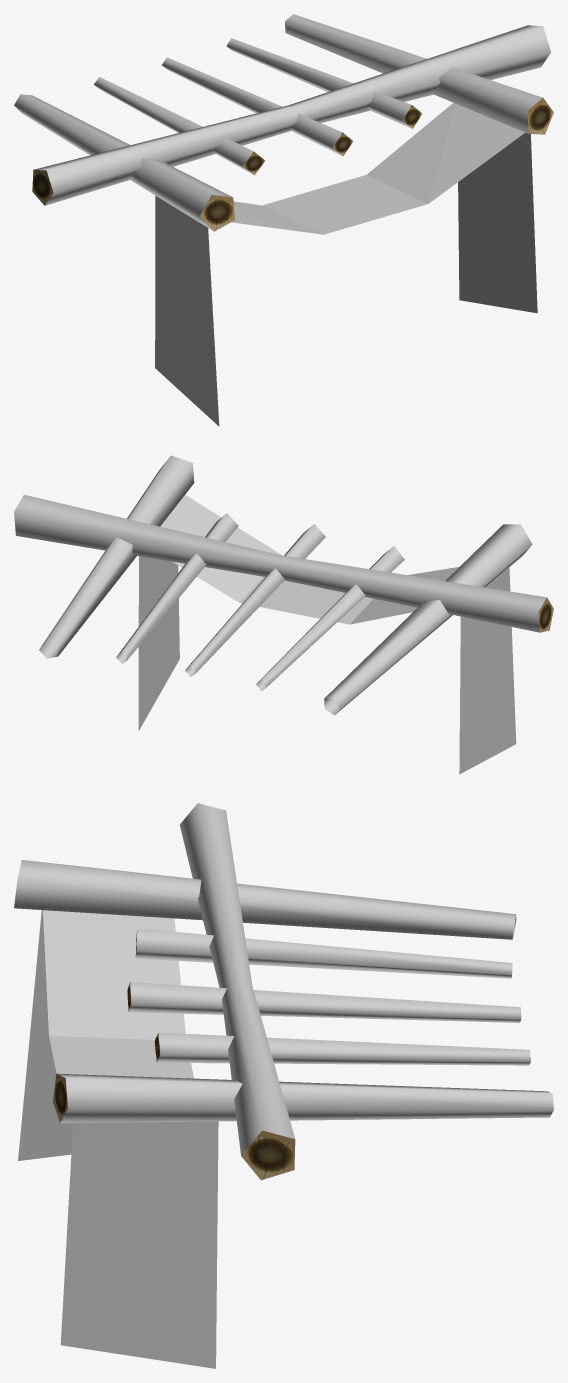
The model's file is environment_common_zhuzijia_001_a.FBX.
3 renders of one model, top to bottom at view 1: azimuth 30°, elevation 25°; view 2: azimuth 150°, elevation 25°; view 3: azimuth 270°, elevation 25°, orthographic. The views are drawn at different scales.
Parts seen in each view (by area): view 1: environment_common_zhuzijia_001_c, environment_common_zhuzijia_001_a, environment_common_zhuzijia_001_b; view 2: environment_common_zhuzijia_001_a, environment_common_zhuzijia_001_c; view 3: environment_common_zhuzijia_001_a, environment_common_zhuzijia_001_c, environment_common_zhuzijia_001_b.
Part boxes in pixels (bbox=[...]): environment_common_zhuzijia_001_c: bbox=[155, 103, 537, 426]; environment_common_zhuzijia_001_a: bbox=[14, 14, 550, 230]; environment_common_zhuzijia_001_b: bbox=[32, 98, 553, 231]; environment_common_zhuzijia_001_a: bbox=[14, 455, 546, 715]; environment_common_zhuzijia_001_c: bbox=[138, 495, 516, 774]; environment_common_zhuzijia_001_a: bbox=[14, 803, 553, 1155]; environment_common_zhuzijia_001_c: bbox=[18, 910, 218, 1368]; environment_common_zhuzijia_001_b: bbox=[53, 930, 295, 1180].
Size of the model in its own units: 458 by 200 by 319.
